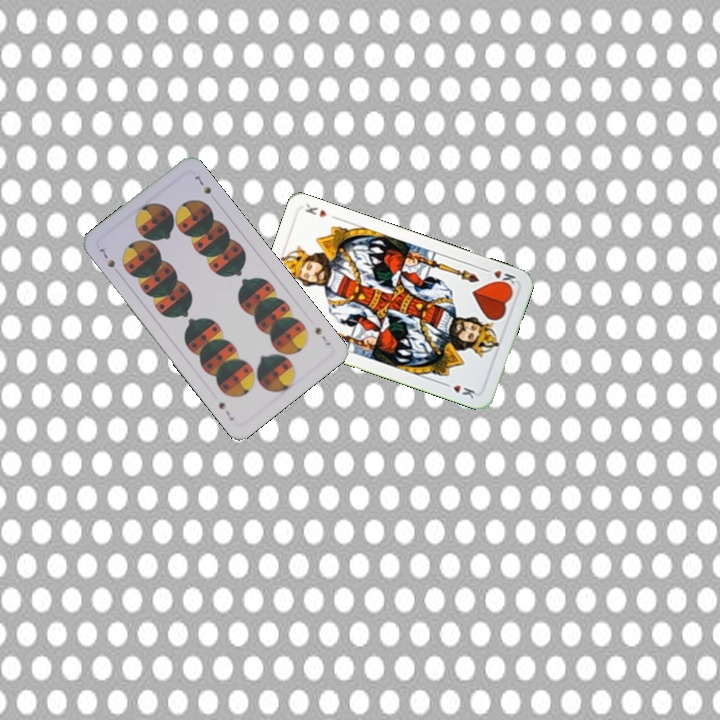HK: (479, 264, 518, 290)
S7: (95, 242, 118, 270), (311, 323, 333, 348)
